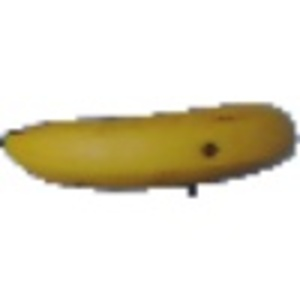banana: (3, 96, 300, 193)
